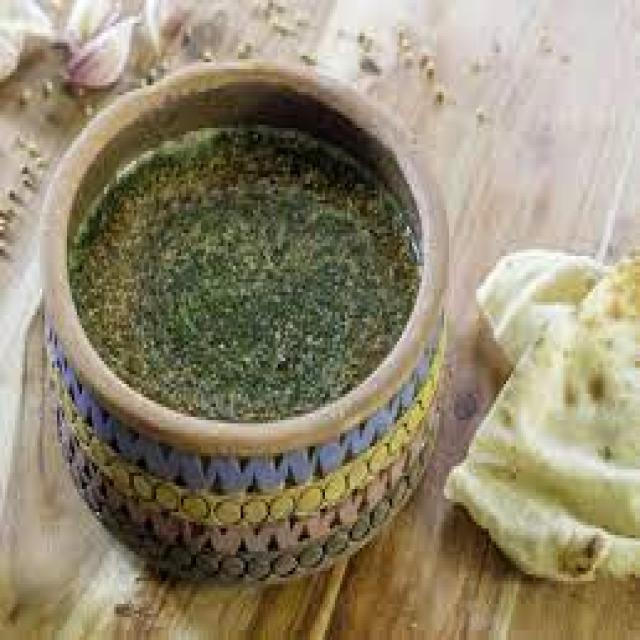Molokhya: (40, 68, 460, 504)
